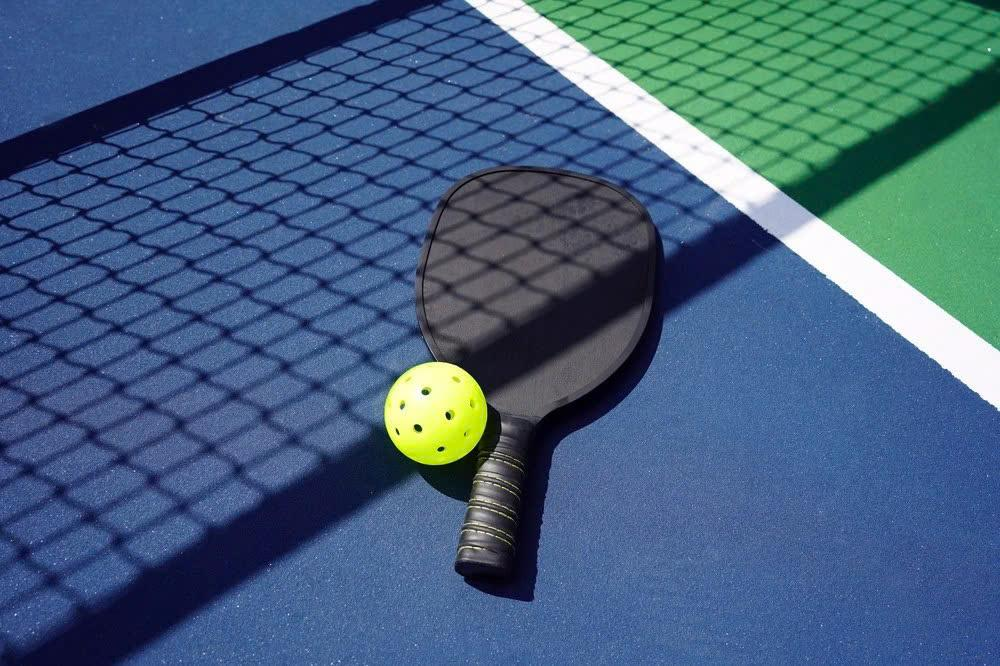ball: (381, 356, 488, 467)
